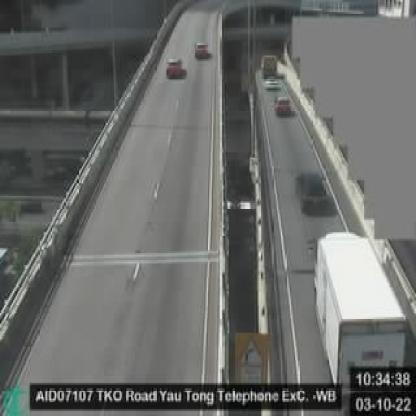Car: (294, 170, 329, 215), (166, 54, 182, 78), (273, 96, 291, 114), (194, 40, 209, 59)
Truck: (313, 229, 402, 402)
